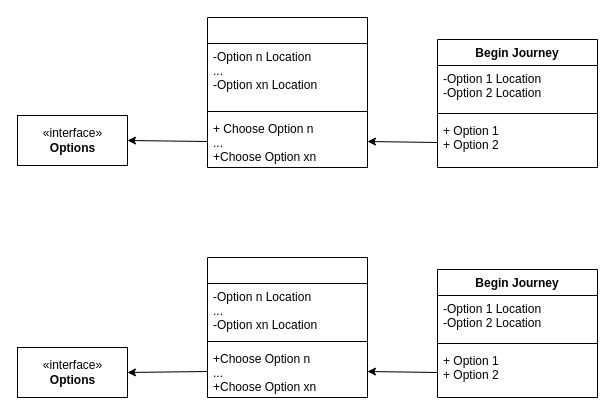
The diagram is 615 pixels wide and 418 high, and some of its shapes have lost their labels. Each missing label, with the box of its shape:
Journey 1: (206, 16, 368, 168)
Journey 2: (206, 256, 368, 398)
